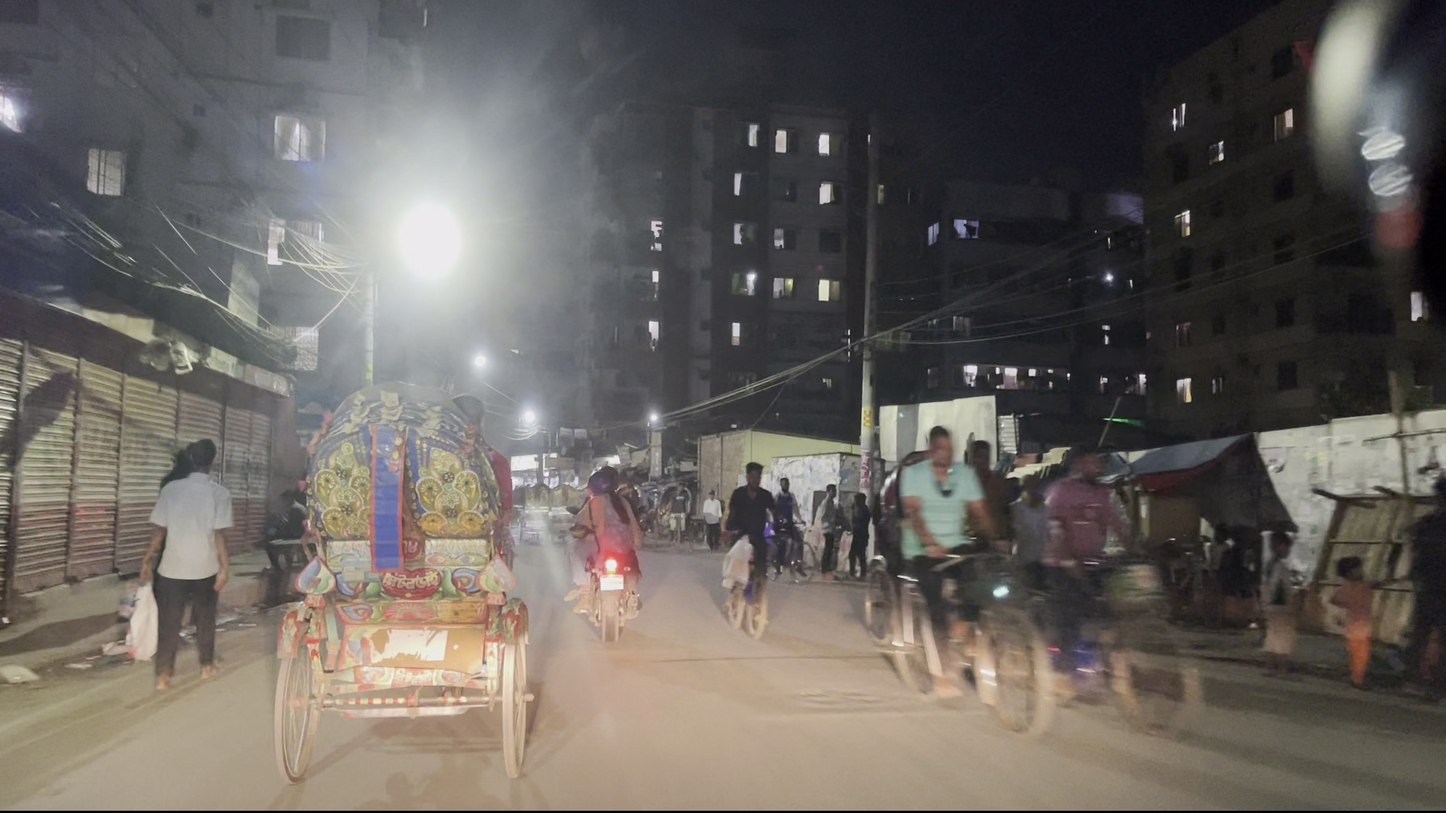bicycle: (880, 422, 1064, 747), (1014, 441, 1207, 738)
motorbike: (566, 455, 653, 641)
person: (133, 432, 245, 689), (721, 455, 783, 626), (761, 474, 818, 585), (817, 482, 844, 578), (847, 488, 872, 585)
